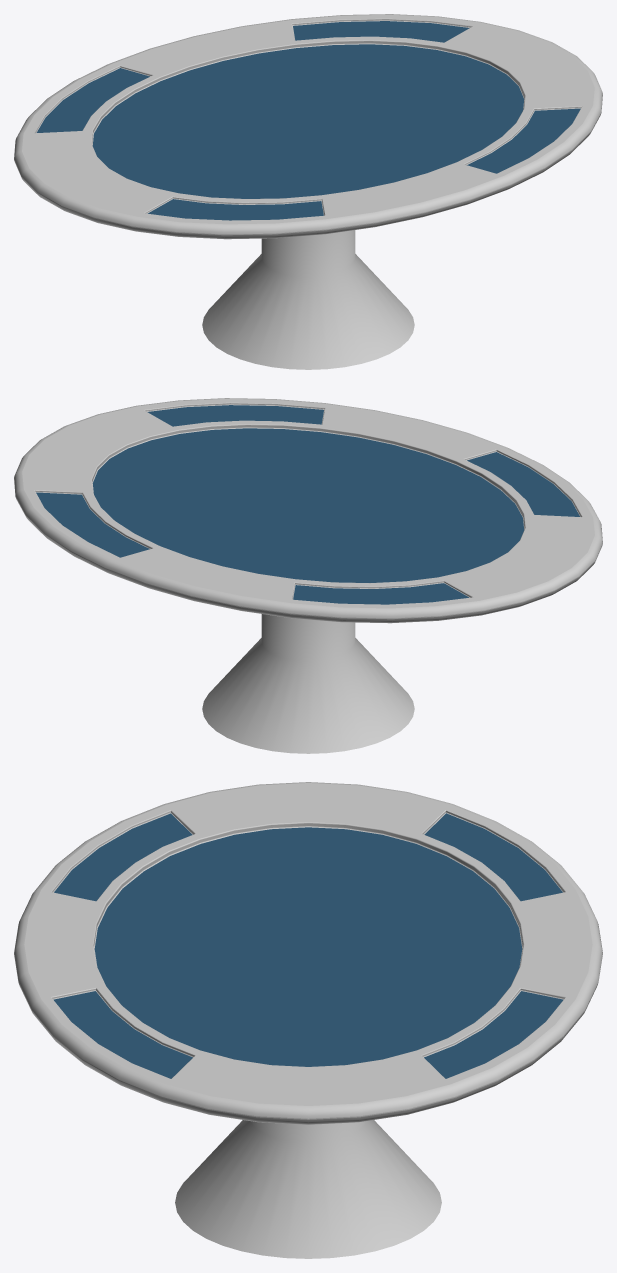
The model's file is Commandtable_3.dae.
3 views of the same model, one above another, from view 1: azimuth 30°, elevation 25°; view 2: azimuth 150°, elevation 25°; view 3: azimuth 270°, elevation 25° (orthographic). The views are drawn at different scales.
Visible parts, largest first — view 1: Tisch; view 2: Tisch; view 3: Tisch.
Boxes of the visible parts, x1,y1,x2,y2 form: Tisch: (14, 14, 602, 369); Tisch: (14, 398, 602, 753); Tisch: (14, 782, 602, 1258).
Bounding box in the file's own units: 200 × 72.5 × 150.
